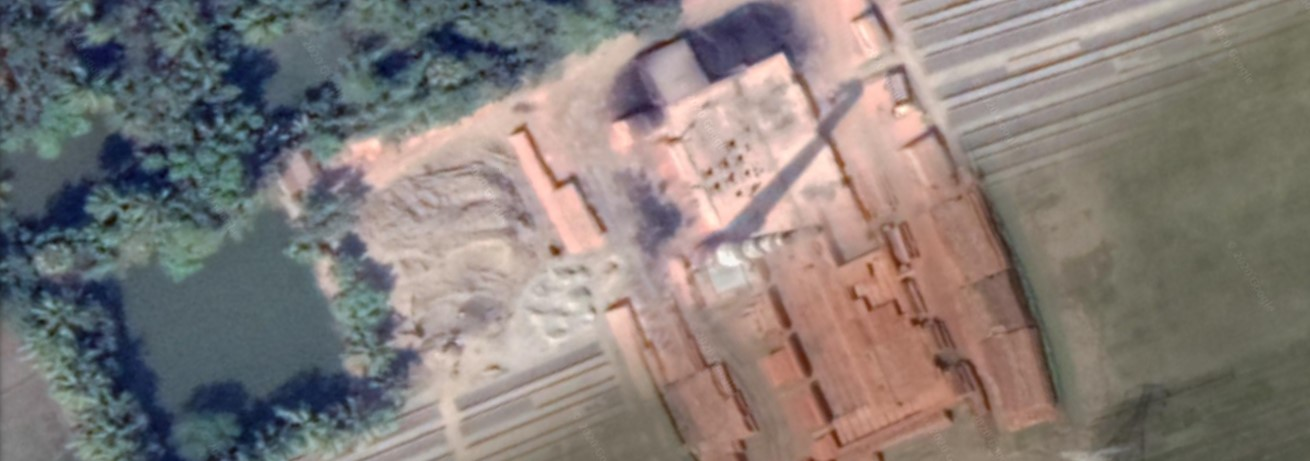kiln: (633, 85, 921, 437)
